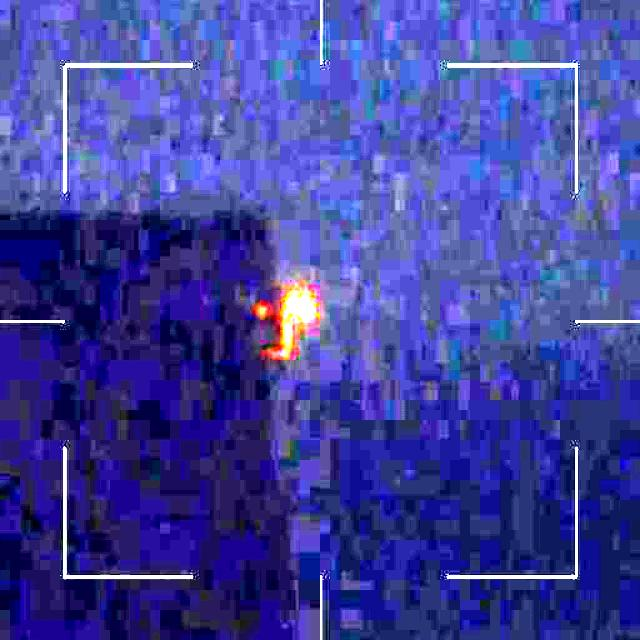bird: (244, 288, 315, 365)
